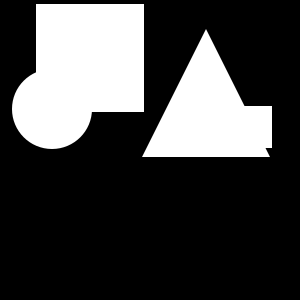circle: (36, 4, 144, 112), (230, 106, 272, 148)
rectangle: (12, 69, 92, 149), (111, 29, 129, 47)
triangle: (142, 29, 270, 157)
